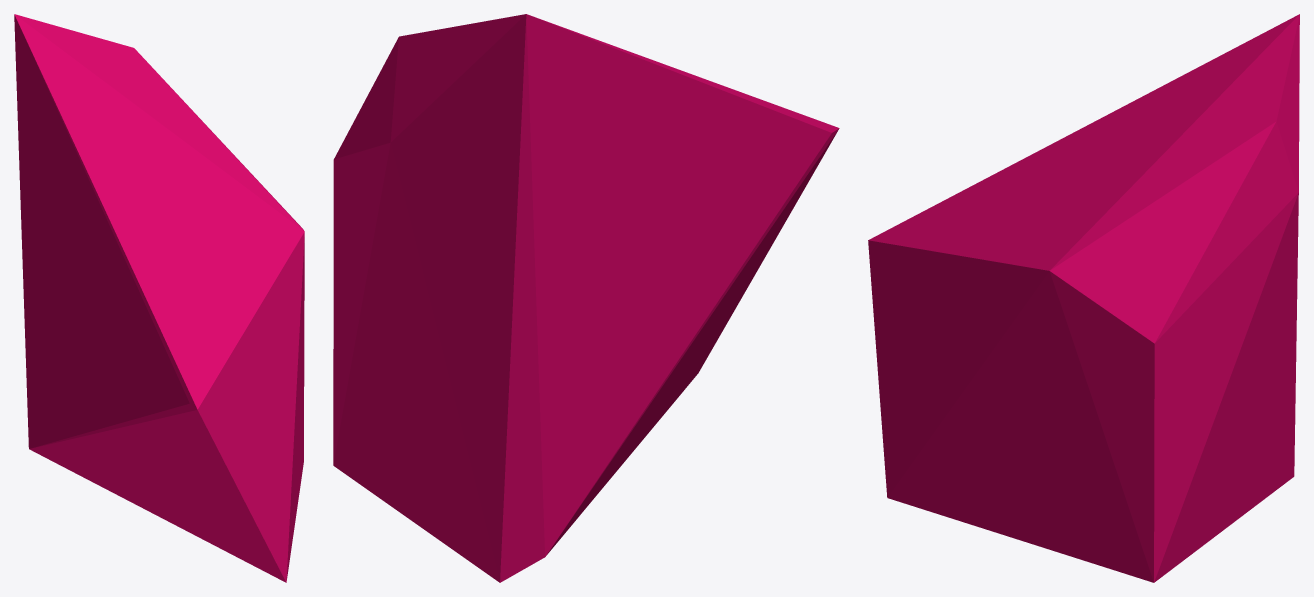
File: torso_convex_piece_052.obj
The picture shows the model from 3 angles, left to right: view 1: azimuth 30°, elevation 25°; view 2: azimuth 150°, elevation 25°; view 3: azimuth 270°, elevation 25°; orthographic projection. The views are drawn at different scales.
Bounding box in the file's own units: 0.0499 × 0.0868 × 0.0738.
